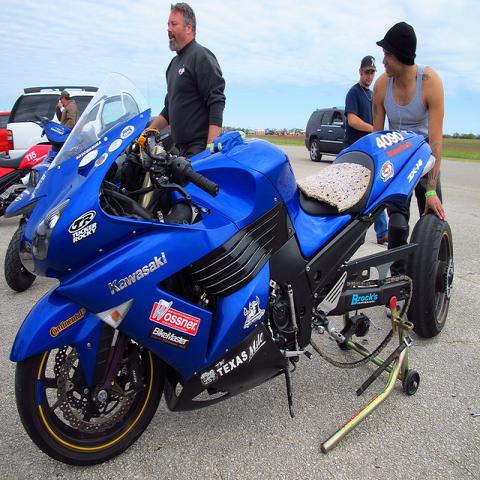car: (5, 85, 96, 161)
motorcycle: (15, 67, 436, 471), (0, 115, 71, 294), (0, 145, 51, 216)
truck: (303, 109, 351, 161)
